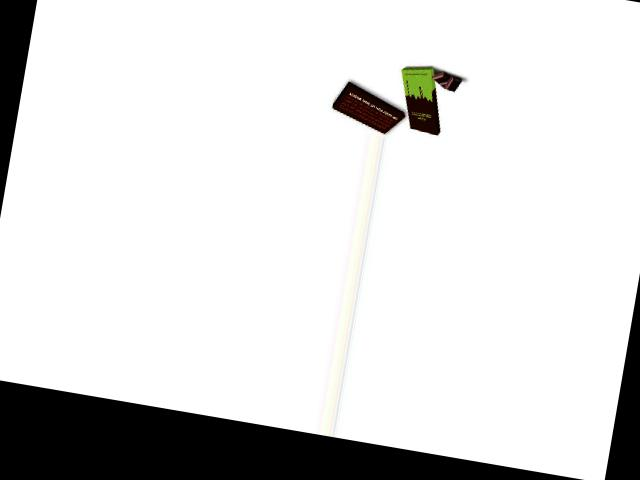chocolate: (395, 60, 446, 136)
